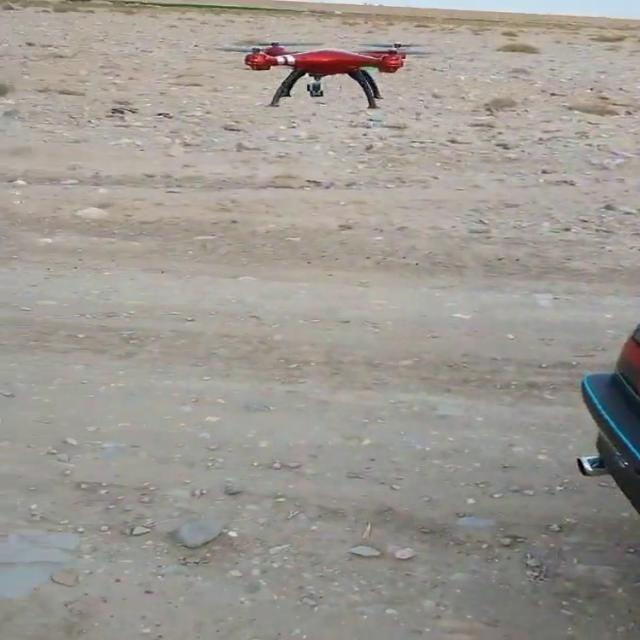drone: (209, 36, 436, 112)
